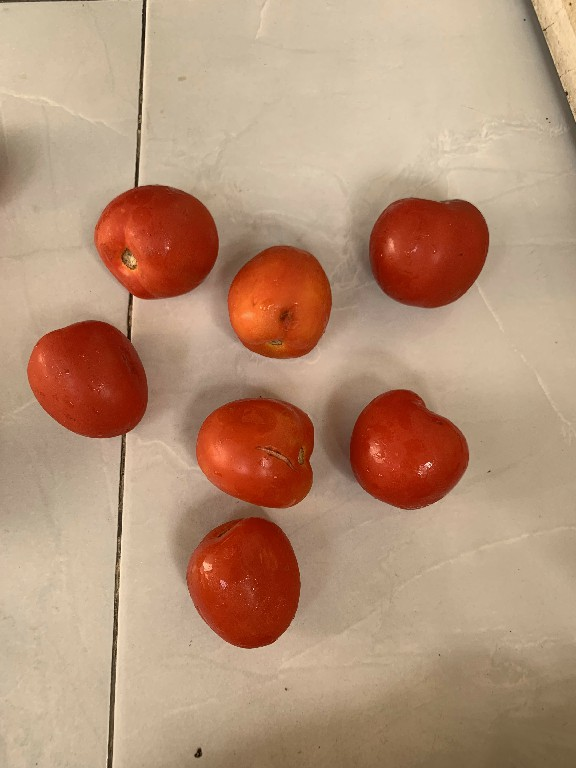NG: (186, 394, 321, 510), (227, 241, 331, 360)
OK: (17, 314, 154, 449), (343, 376, 468, 515), (183, 519, 311, 653), (93, 182, 218, 308), (358, 196, 494, 311)
